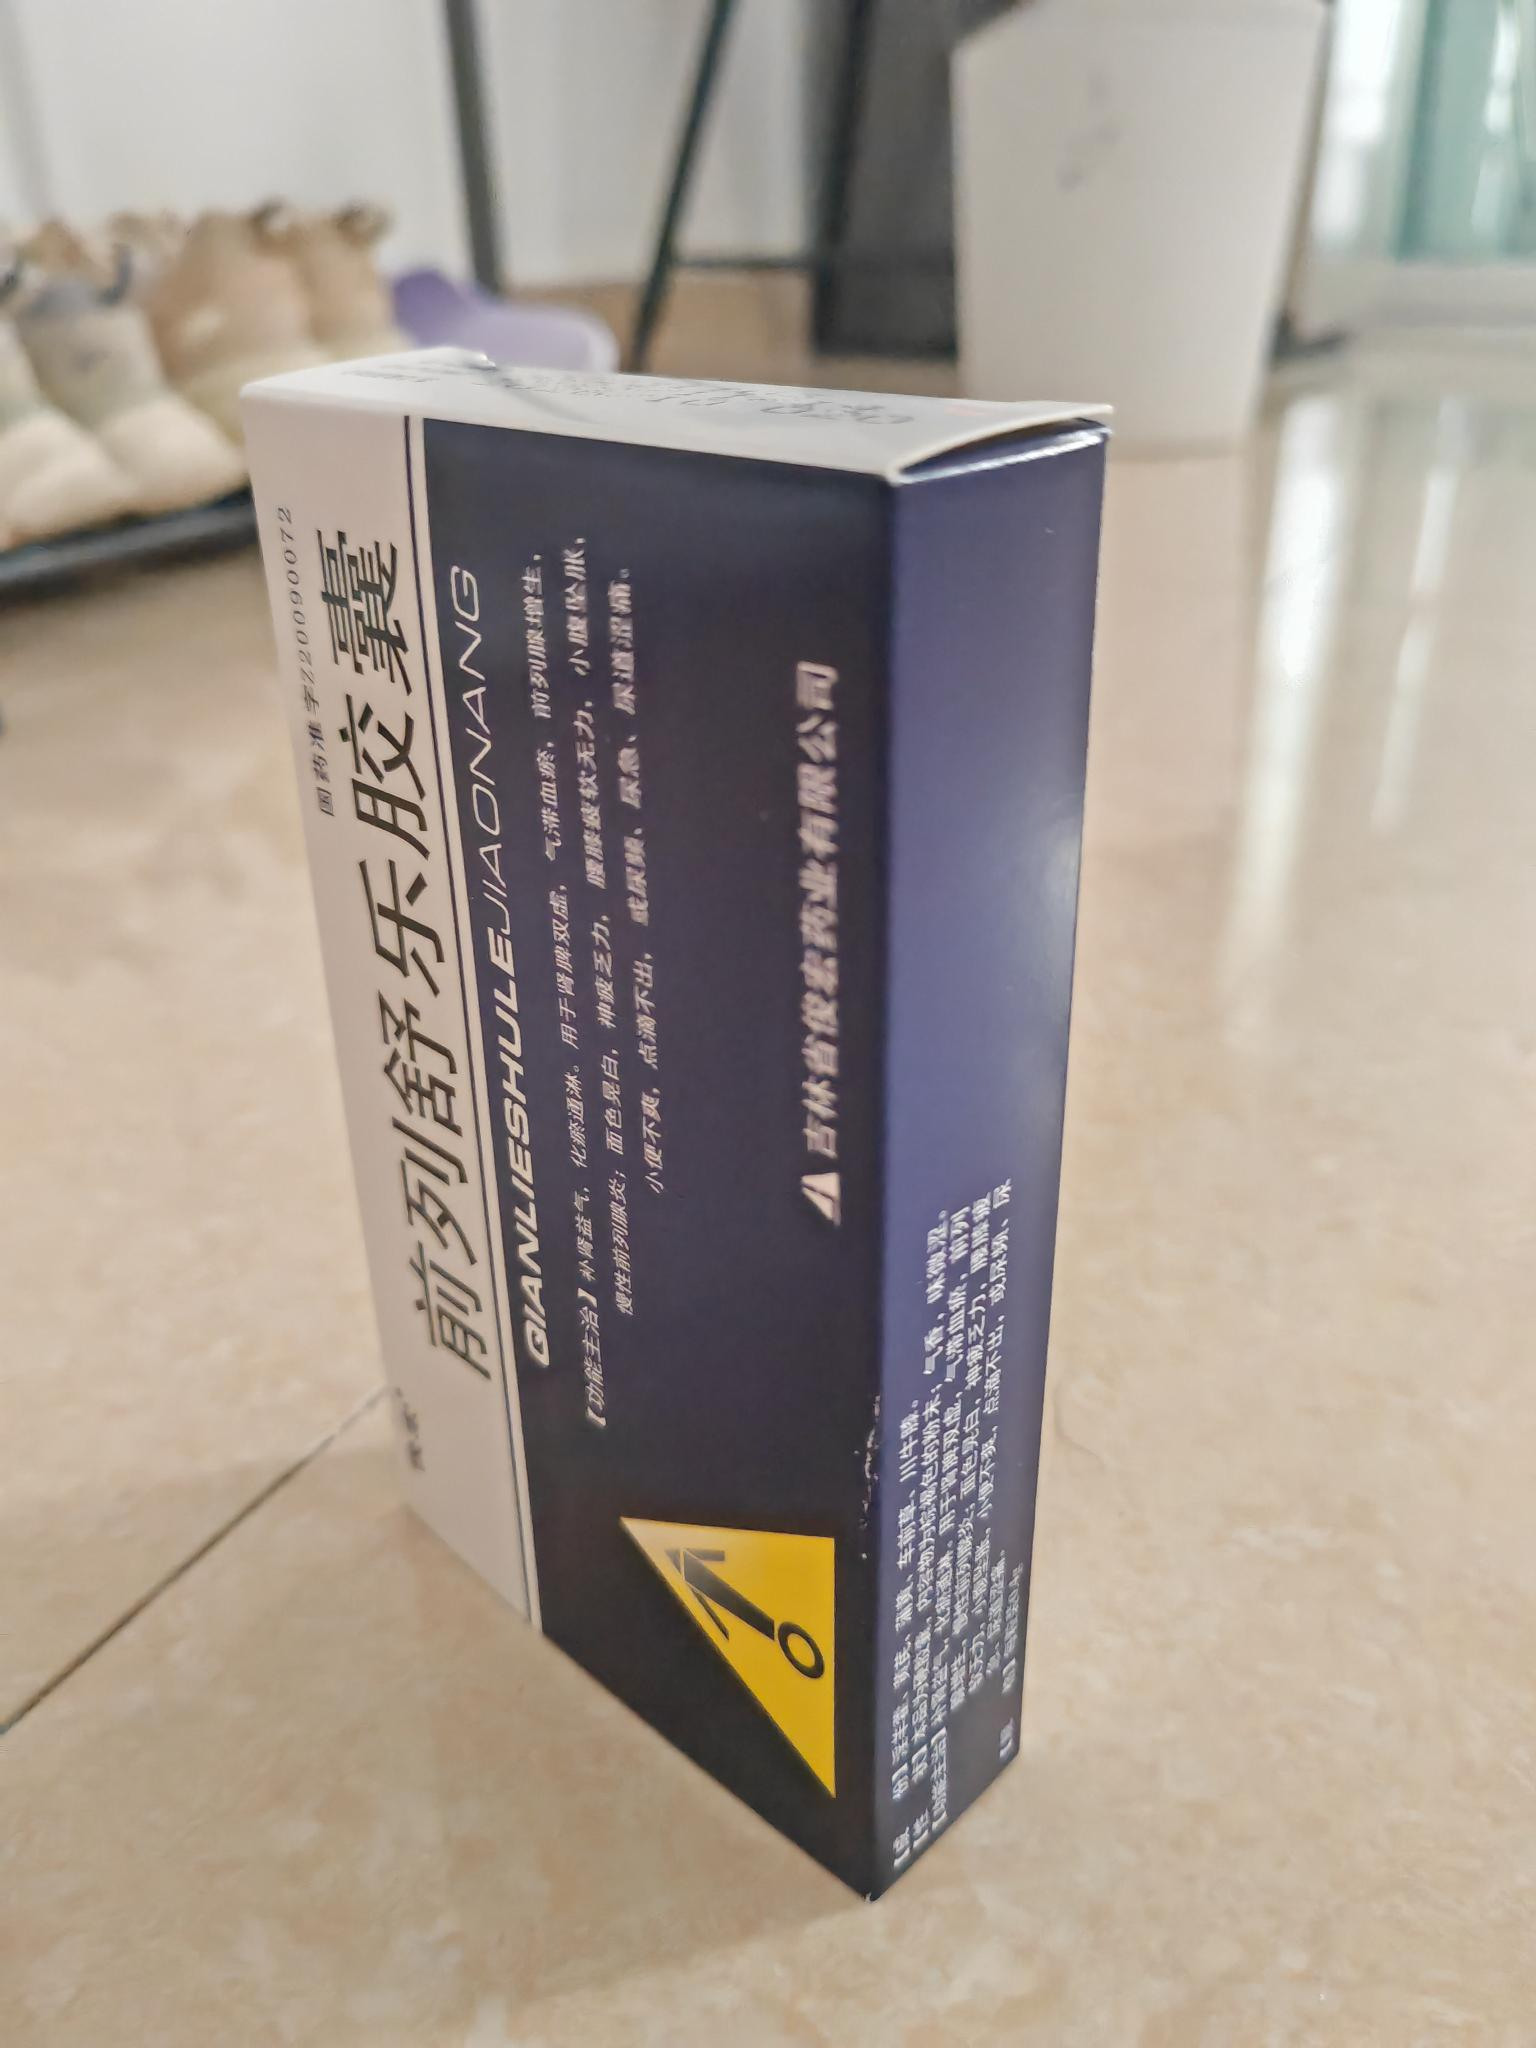Medicine2: (216, 331, 1142, 1930)
